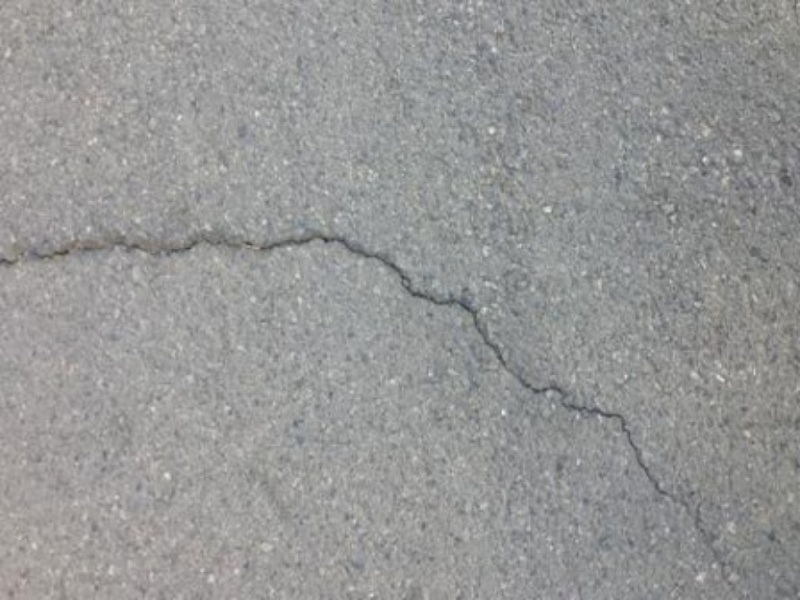crack: (1, 193, 728, 571)
